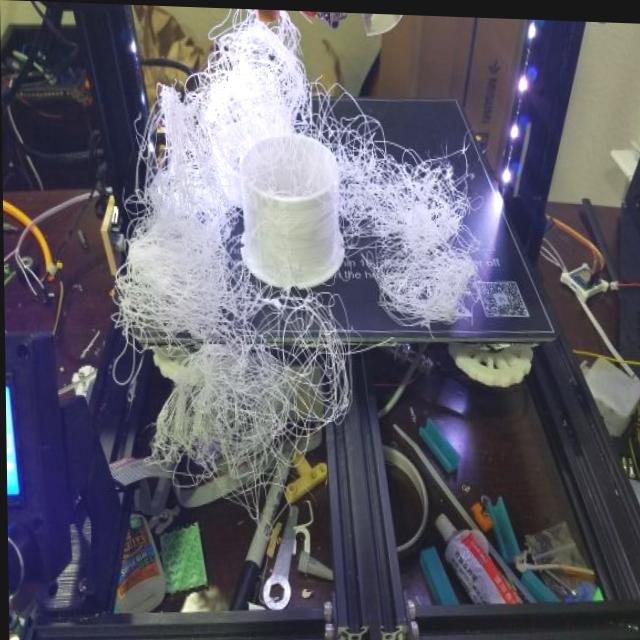spaghetti: (122, 6, 476, 510)
